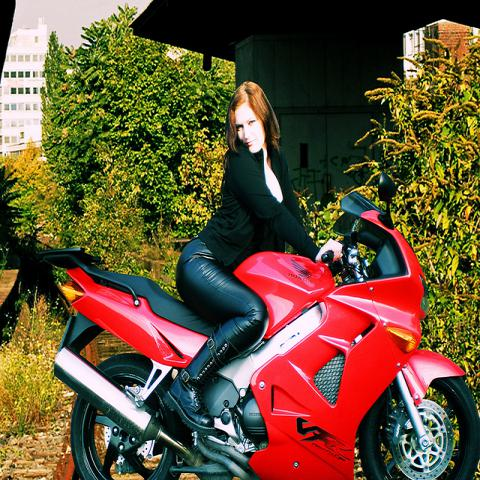motorcycle: (38, 162, 480, 475)
